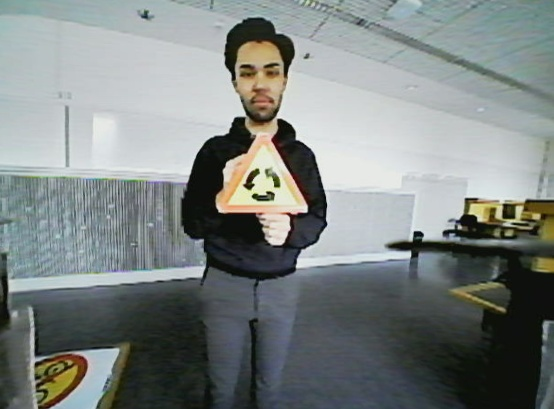roundabout_warning: (209, 133, 317, 218)
